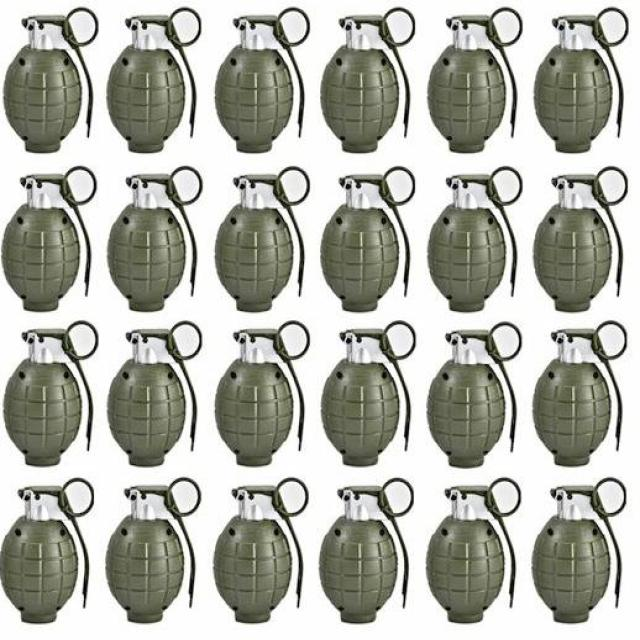grenade: (107, 9, 204, 155), (534, 167, 629, 316), (106, 478, 201, 627), (426, 478, 521, 627), (214, 478, 309, 627), (533, 478, 628, 627), (321, 9, 417, 155), (321, 167, 415, 316), (320, 478, 414, 627), (108, 167, 203, 314), (215, 167, 310, 314), (427, 322, 521, 470), (5, 321, 100, 467), (534, 321, 629, 467), (535, 9, 630, 155), (427, 167, 521, 314), (2, 478, 94, 628), (428, 10, 523, 155), (215, 9, 310, 154), (5, 10, 100, 155), (109, 321, 203, 467), (2, 167, 96, 313), (321, 321, 416, 465), (215, 321, 309, 466)
